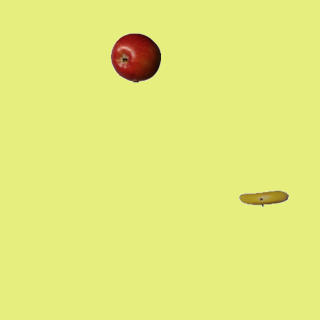Apple Braeburn: (110, 32, 160, 82)
Banana: (238, 173, 288, 223)
